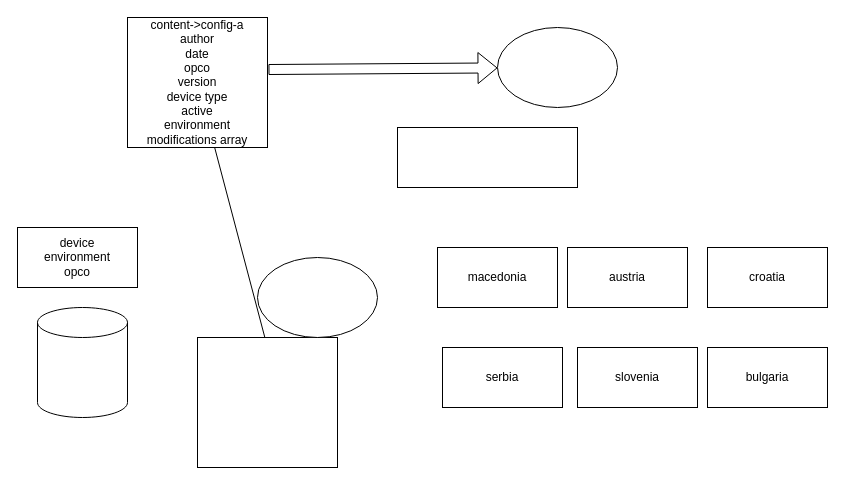
Image size: 845x485. Some labels were removed from this diagram. The shapes that lost their labels are listed below. From the top down, each one's box as (x1, y1, x2, y2) in pixels, then its label:
(496, 26, 618, 108): result
(396, 126, 578, 188): configs
(36, 306, 128, 418): redis automatic refresh
(196, 336, 338, 468): changes configid author date
